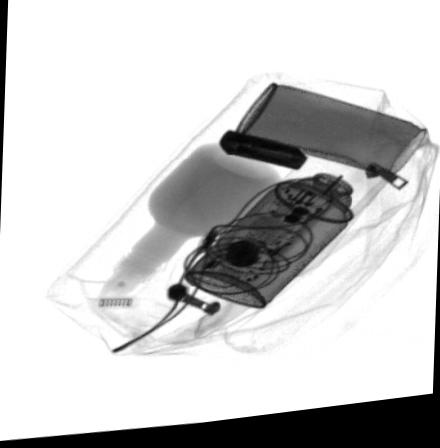Lighter: (217, 135, 309, 179)
Sprayer: (183, 155, 389, 315)
